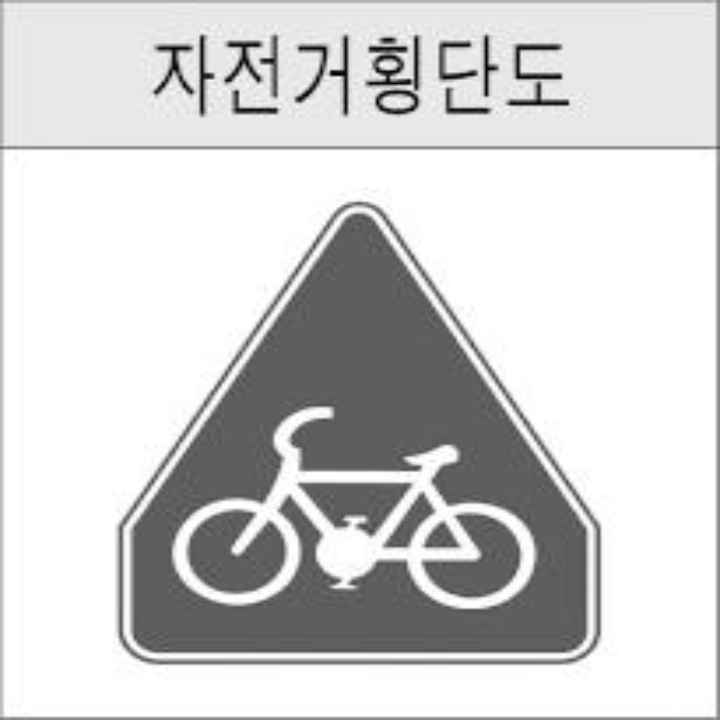bicycle: (162, 389, 546, 643)
